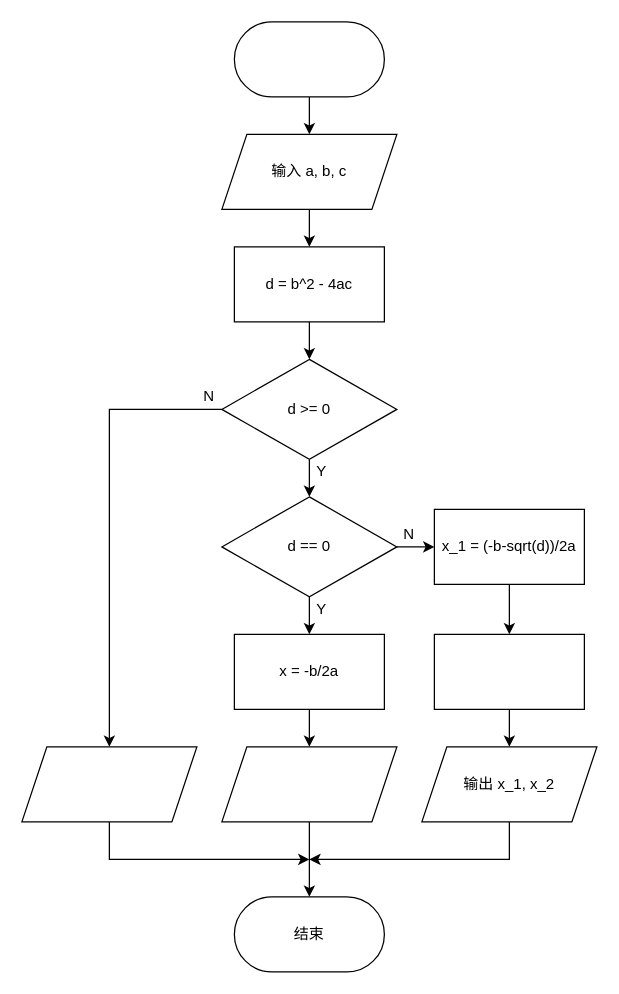
This 619x994 diagram has some shape labels left out. The centre of each missing label's shape, as x and y in pixels:
x_2 = (-b+sqrt(d))/2a: pixel 508 671
开始: pixel 308 59
输出 "方程无实根": pixel 109 784
输出 x: pixel 309 784
